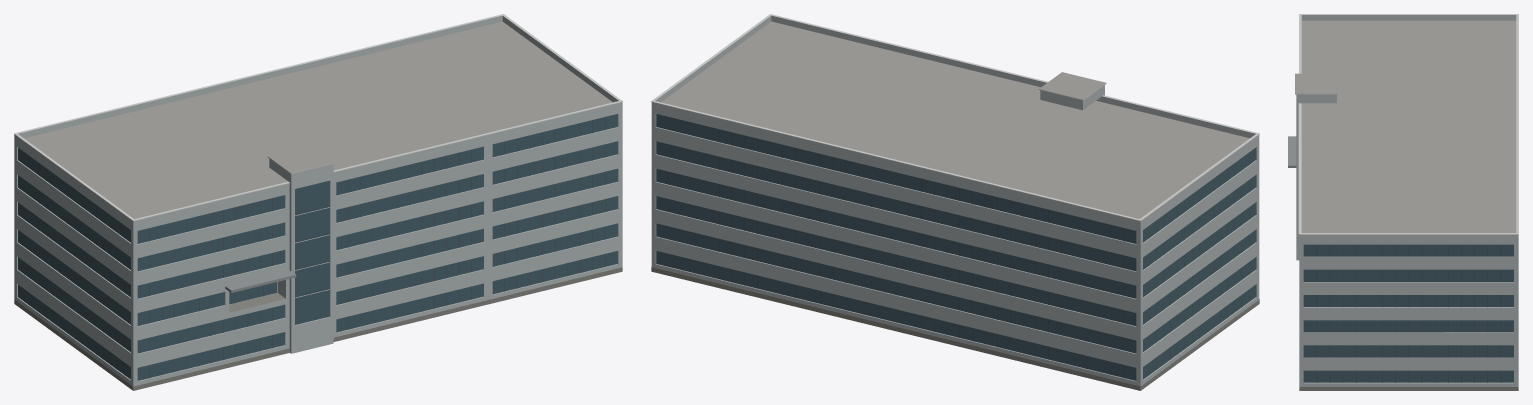
3 views of the same model, side by side, from view 1: azimuth 30°, elevation 25°; view 2: azimuth 150°, elevation 25°; view 3: azimuth 270°, elevation 25° (orthographic). The views are drawn at different scales.
Parts seen in each view (by area): view 1: glocal__wall, glocal__roof, glocal__glass, glocal__parapet, glocal__frame, glocal__base, glocal__trim, glocal__canopy; view 2: glocal__wall, glocal__roof, glocal__glass, glocal__parapet, glocal__frame, glocal__trim, glocal__base; view 3: glocal__roof, glocal__wall, glocal__glass, glocal__parapet, glocal__trim, glocal__frame, glocal__base, glocal__canopy.
Part boxes in pixels (<box>): glocal__wall: <box>14,107,622,390</box>; glocal__roof: <box>24,21,612,218</box>; glocal__glass: <box>18,114,617,380</box>; glocal__parapet: <box>14,15,622,226</box>; glocal__frame: <box>24,117,605,378</box>; glocal__base: <box>14,267,622,390</box>; glocal__trim: <box>14,14,622,221</box>; glocal__canopy: <box>225,270,296,292</box>; glocal__wall: <box>651,85,1259,390</box>; glocal__roof: <box>661,21,1249,218</box>; glocal__glass: <box>656,114,1255,380</box>; glocal__parapet: <box>651,15,1259,226</box>; glocal__frame: <box>668,117,1249,377</box>; glocal__trim: <box>651,14,1259,221</box>; glocal__base: <box>651,267,1259,390</box>; glocal__roof: <box>1295,20,1516,232</box>; glocal__wall: <box>1296,94,1518,386</box>; glocal__glass: <box>1303,244,1513,382</box>; glocal__parapet: <box>1299,15,1518,239</box>; glocal__trim: <box>1295,14,1518,234</box>; glocal__frame: <box>1316,244,1501,382</box>; glocal__base: <box>1299,387,1518,390</box>; glocal__canopy: <box>1288,136,1296,167</box>.
Bounding box in the file's own units: 69.26 × 24.52 × 30.7.
